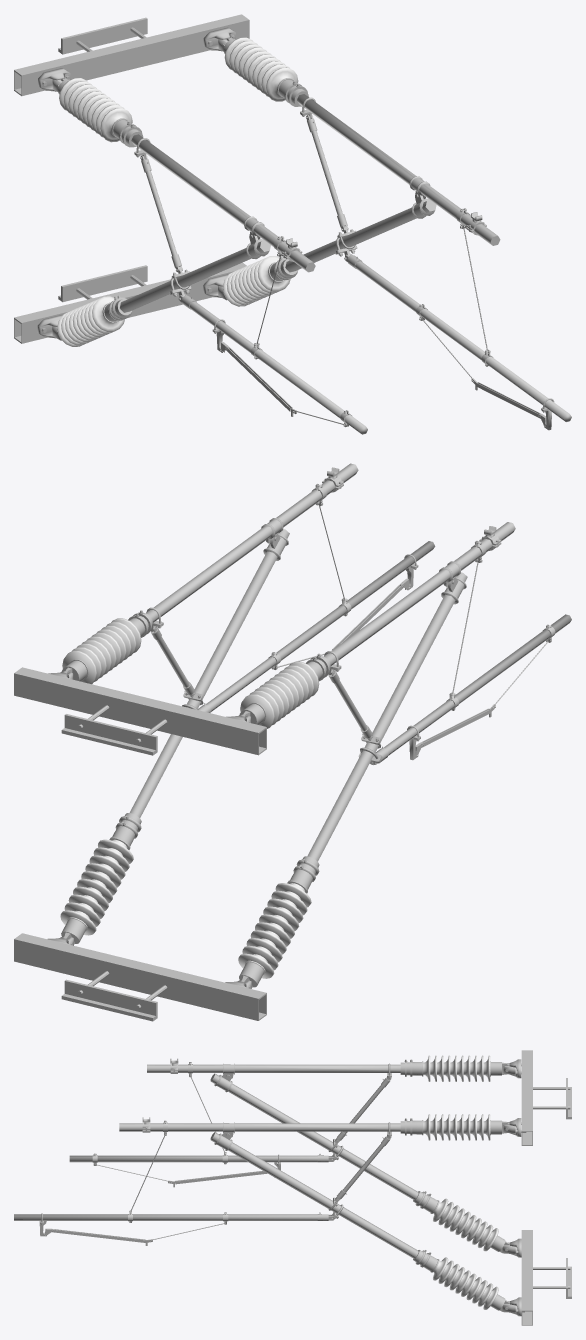
File: single_double_1.obj
3 views of the same model, one above another, from view 1: azimuth 30°, elevation 25°; view 2: azimuth 150°, elevation 25°; view 3: azimuth 270°, elevation 25° (orthographic). The views are drawn at different scales.
Parts seen in each view (by area): view 1: 1.092, 1.103, 立方体.427, 1.100, 1.095, 立方体.432, 立方体.430, 立方体.429, 1.102, 1.093, 1.096; view 2: 1.092, 1.103, 立方体.432, 立方体.427, 1.100, 1.095, 立方体.430, 立方体.429, 1.102, 1.093; view 3: 1.092, 1.103, 1.100, 1.095, 立方体.432, 立方体.427, 1.093, 1.102.
Boxes of the visible parts, left/top/right/bottom form: 1.092: left=222, top=38, right=571, bottom=421; 1.103: left=56, top=78, right=367, bottom=434; 立方体.427: left=14, top=14, right=249, bottom=96; 1.100: left=57, top=78, right=132, bottom=346; 1.095: left=223, top=37, right=298, bottom=306; 立方体.432: left=14, top=262, right=246, bottom=343; 立方体.430: left=58, top=265, right=147, bottom=302; 立方体.429: left=58, top=17, right=147, bottom=54; 1.102: left=212, top=319, right=351, bottom=427; 1.093: left=416, top=304, right=554, bottom=430; 1.096: left=203, top=27, right=235, bottom=51; 1.092: left=61, top=463, right=435, bottom=945; 1.103: left=239, top=522, right=571, bottom=988; 立方体.432: left=14, top=933, right=266, bottom=1020; 立方体.427: left=14, top=667, right=266, bottom=755; 1.100: left=238, top=661, right=319, bottom=978; 1.095: left=60, top=618, right=141, bottom=935; 立方体.430: left=61, top=979, right=157, bottom=1021; 立方体.429: left=61, top=714, right=157, bottom=755; 1.102: left=407, top=624, right=555, bottom=760; 1.093: left=268, top=554, right=418, bottom=669; 1.092: left=14, top=1117, right=509, bottom=1311; 1.103: left=69, top=1058, right=509, bottom=1253; 1.100: left=423, top=1055, right=498, bottom=1251; 1.095: left=423, top=1114, right=498, bottom=1309; 立方体.432: left=521, top=1230, right=532, bottom=1325; 立方体.427: left=521, top=1050, right=532, bottom=1145; 1.093: left=39, top=1212, right=228, bottom=1245; 1.102: left=92, top=1153, right=280, bottom=1187.
Size of the model in its own units: 1.72 by 1.98 by 5.02.
